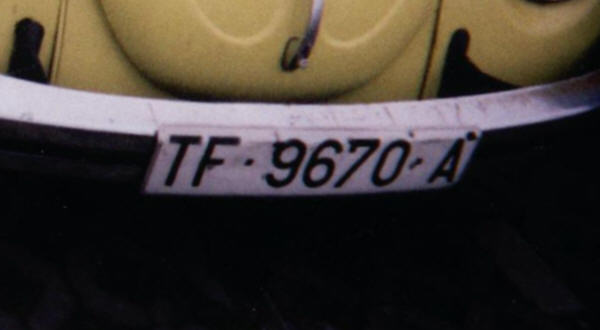license_plate: (143, 128, 481, 196)
